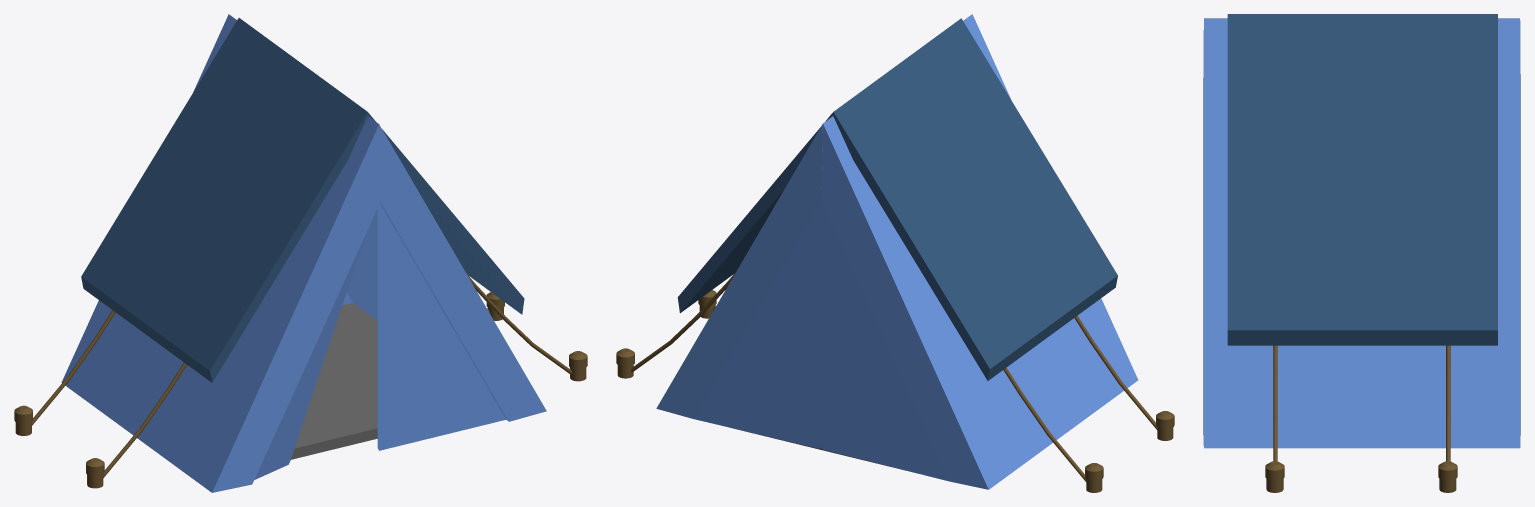
File: Blue Tent.glb
The picture shows the model from 3 angles, left to right: view 1: azimuth 30°, elevation 25°; view 2: azimuth 150°, elevation 25°; view 3: azimuth 270°, elevation 25°; orthographic projection. The views are drawn at different scales.
Parts seen in each view (by area): view 1: Cube, Cube.001, Plane, Cylinder.003, Cylinder.004, Cylinder.010; view 2: Cube, Cube.001, Cylinder.004, Cylinder.003, Cylinder.009; view 3: Cube.001, Cube, Cylinder.009, Cylinder.010, Cylinder.008.
Boxes of the visible parts, x1,y1,x2,y2 form: Cube: [61, 14, 546, 492]; Cube.001: [81, 18, 524, 382]; Plane: [291, 303, 377, 459]; Cylinder.003: [103, 362, 186, 477]; Cylinder.004: [32, 310, 115, 425]; Cylinder.010: [466, 273, 572, 374]; Cube: [656, 14, 1138, 489]; Cube.001: [677, 18, 1117, 380]; Cylinder.004: [1003, 367, 1086, 481]; Cylinder.003: [1074, 316, 1157, 429]; Cylinder.009: [631, 272, 735, 372]; Cube.001: [1227, 14, 1497, 345]; Cube: [1203, 18, 1520, 448]; Cylinder.009: [1446, 345, 1450, 461]; Cylinder.010: [1273, 345, 1277, 461]; Cylinder.008: [1438, 461, 1457, 480].
Size of the model in its own units: 0.4899 by 0.3255 by 0.2629.
